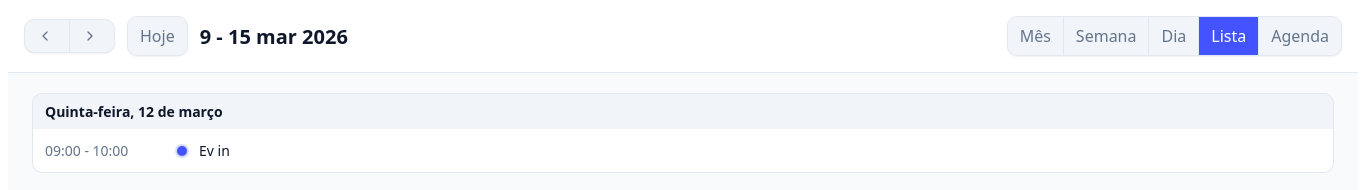
Test: Calendar FullCalendar options › spans a week with listRange and navigates by week
expect the text "Ev in" is shown: met, box [199,141,230,160]
expect the text "Ev next-week" is not shown: met
Step 1. Click the button with class "react-agendfy-next-button" → click(92, 36), box [69,20,114,52]
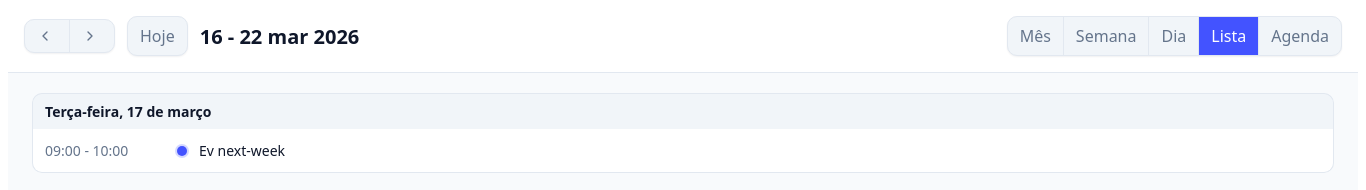
expect the text "Ev next-week" is shown: met, box [199,141,285,160]
expect the heading with class "react-agendfy-toolbar-title" reads "16 - 22 mar 2026": met, box [200,22,359,50]
